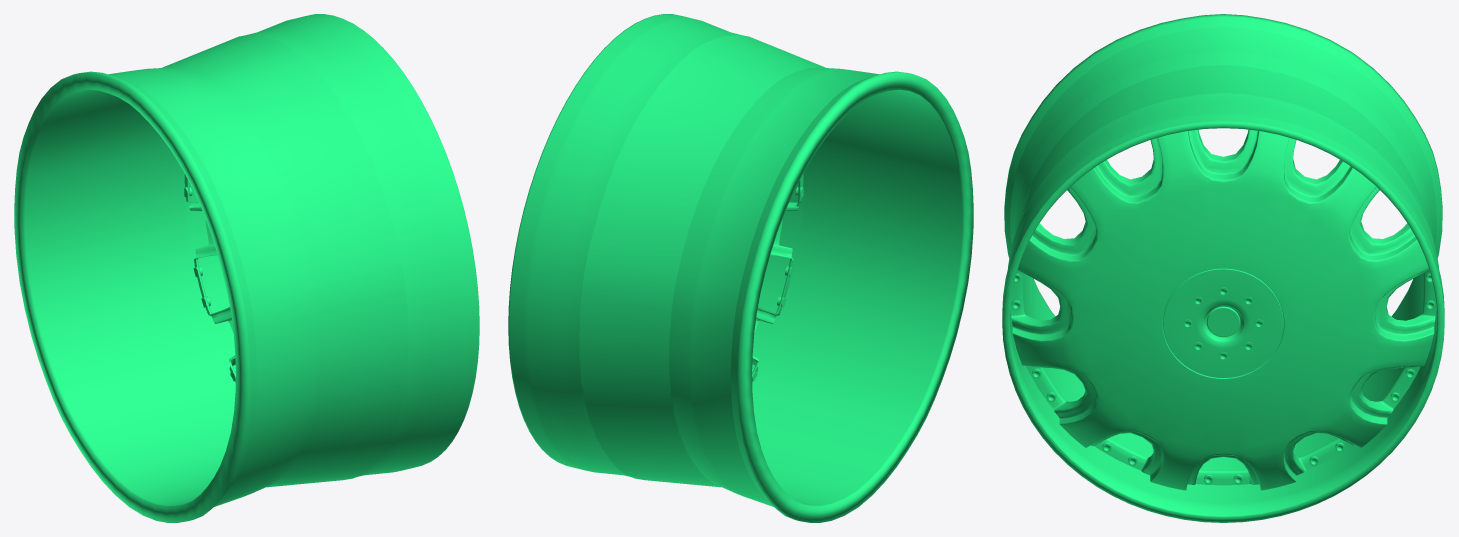
The model's file is tis05.fbx.
3 renders of one model, left to right at view 1: azimuth 30°, elevation 25°; view 2: azimuth 150°, elevation 25°; view 3: azimuth 270°, elevation 25°, orthographic. The views are drawn at different scales.
Parts seen in each view (by area): view 1: tis05; view 2: tis05; view 3: tis05.
Boxes of the visible parts, x1,y1,x2,y2 form: tis05: (14,14,479,522); tis05: (508,14,973,522); tis05: (1002,14,1444,522).
Bounding box in the file's own units: 1443 × 2440 × 2440.
